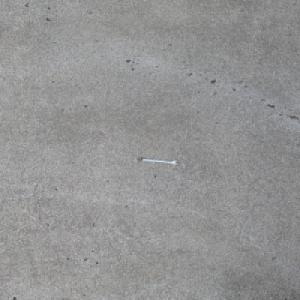Wrench: (135, 157, 179, 164)
